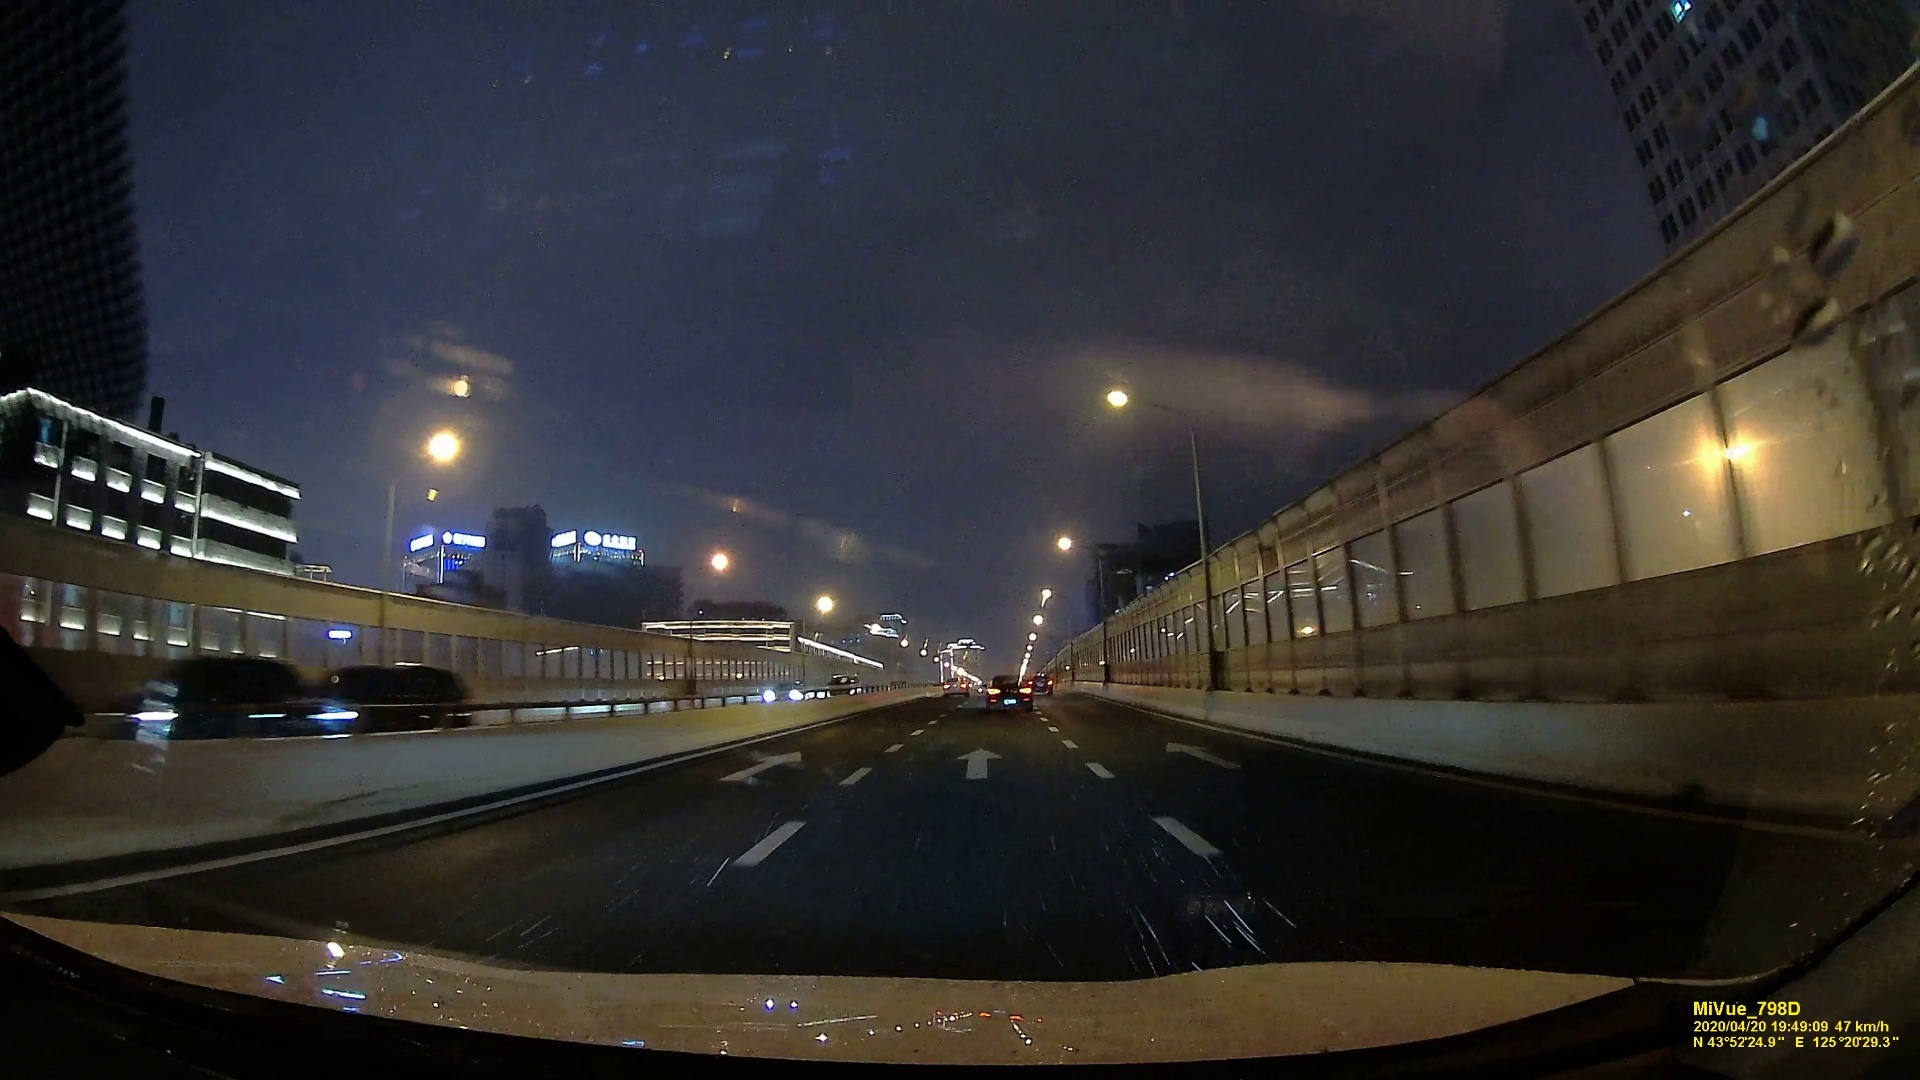vehicle: (107, 653, 315, 742), (277, 655, 487, 732), (984, 673, 1033, 712), (760, 680, 804, 699)
